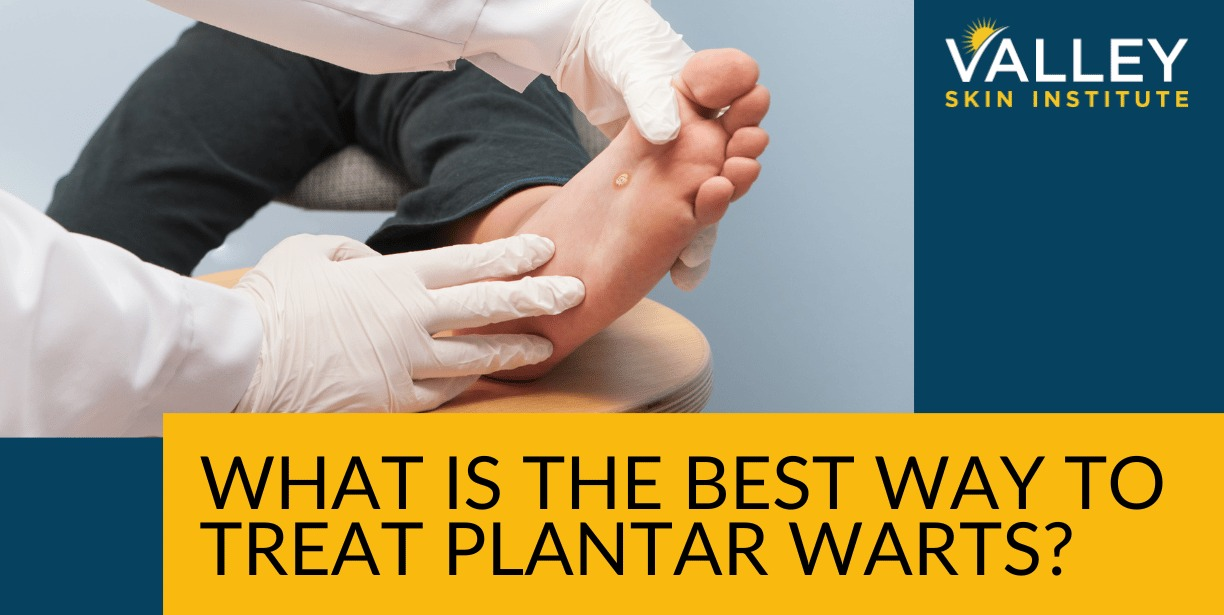Warts: (603, 153, 636, 198)
